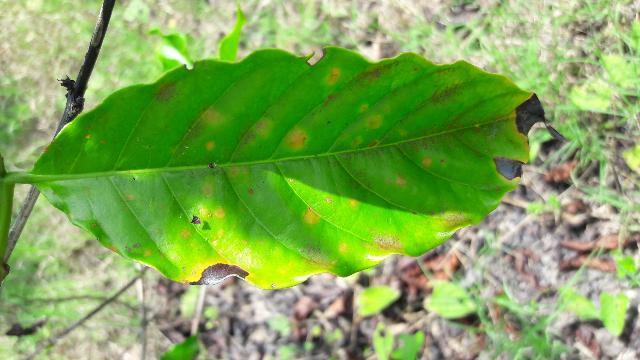rust_level_2: (35, 60, 535, 286)
